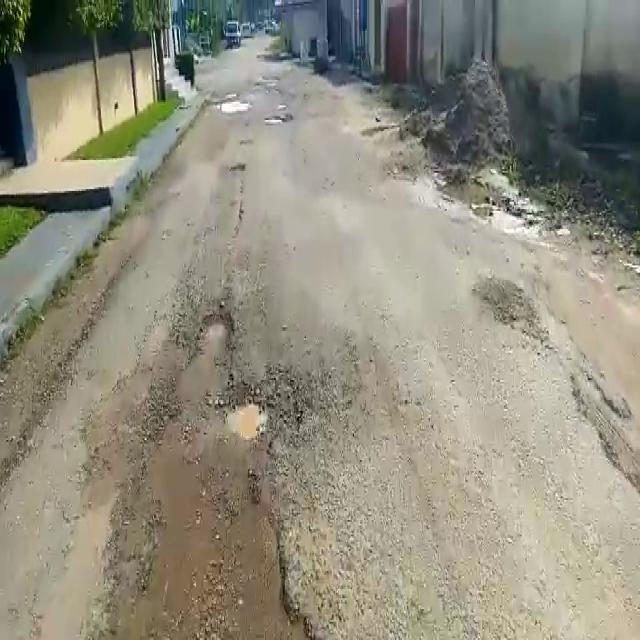Pothole: (226, 364, 320, 444), (197, 309, 232, 351), (206, 98, 254, 114)
